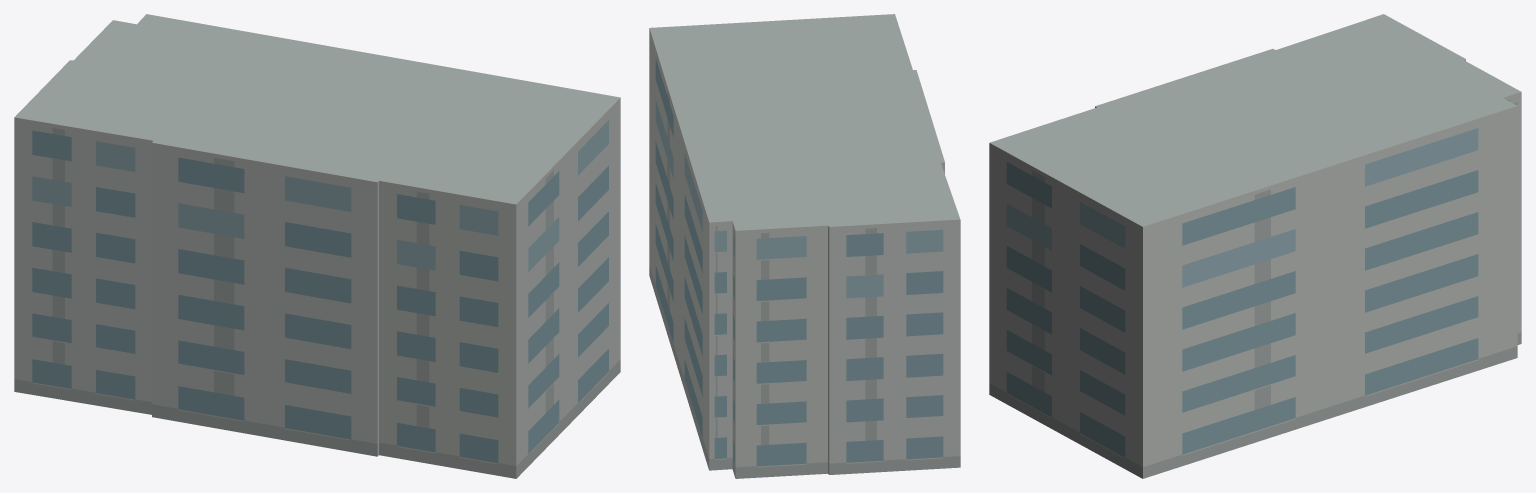
Rendered from survey-upis-32988141.glb.
3 views of the same model, side by side, from view 1: azimuth 30°, elevation 25°; view 2: azimuth 150°, elevation 25°; view 3: azimuth 270°, elevation 25° (orthographic). The views are drawn at different scales.
Visible parts, largest first — view 1: survey-upis-32988141.tmp; view 2: survey-upis-32988141.tmp; view 3: survey-upis-32988141.tmp.
Part boxes in pixels (x1,y1,x2,y2): survey-upis-32988141.tmp: (14, 14, 620, 478); survey-upis-32988141.tmp: (649, 14, 960, 478); survey-upis-32988141.tmp: (989, 14, 1521, 478).
Size of the model in its own units: 29.19 by 16.1 by 30.84.
